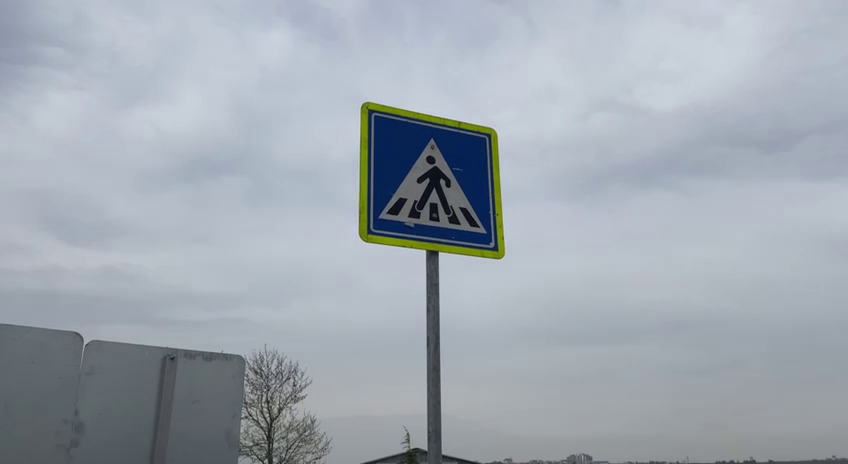pedestrianCrossing: (357, 100, 507, 263)
